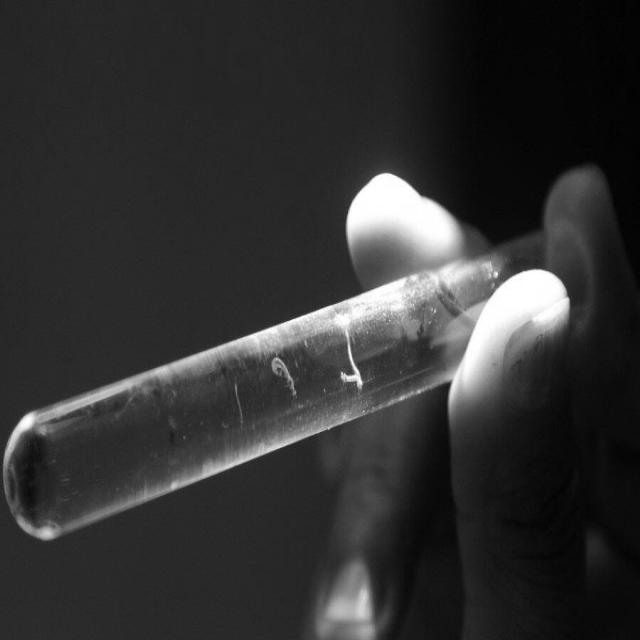larvas: (270, 358, 296, 396), (232, 382, 246, 427), (347, 332, 360, 374), (340, 372, 364, 389), (417, 304, 429, 338)
